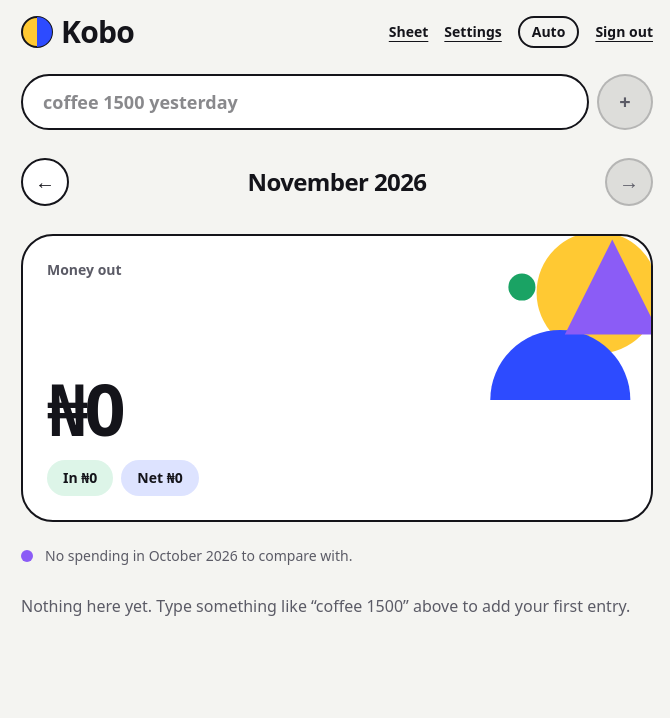
QuickAdd › shows a live preview as you type
In the field named "Quick add": (305, 102) left=21, top=74, right=589, bottom=130, type "bolt 2.5k yesterday"
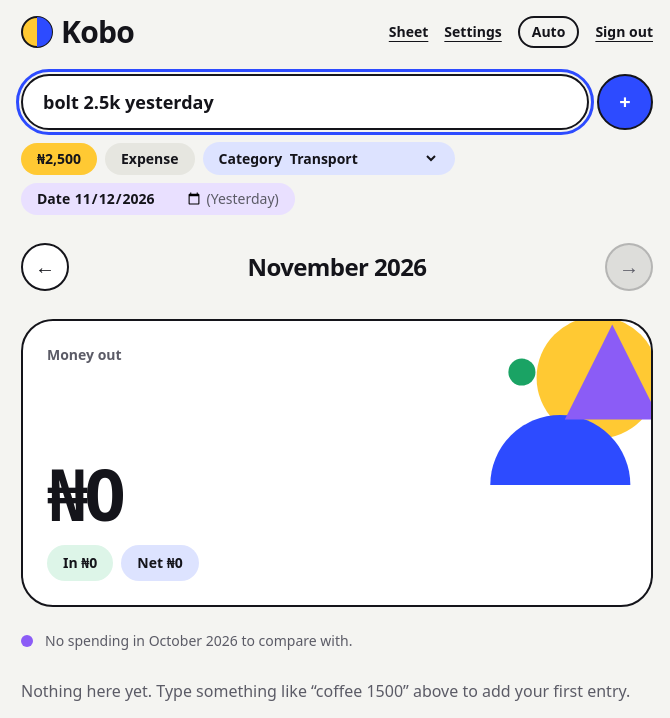
Check: the text "₦2,500" is shown, box left=37, top=148, right=81, bottom=168
Check: the dropdown labelled "Category" shows "Transport", box left=286, top=148, right=439, bottom=169
